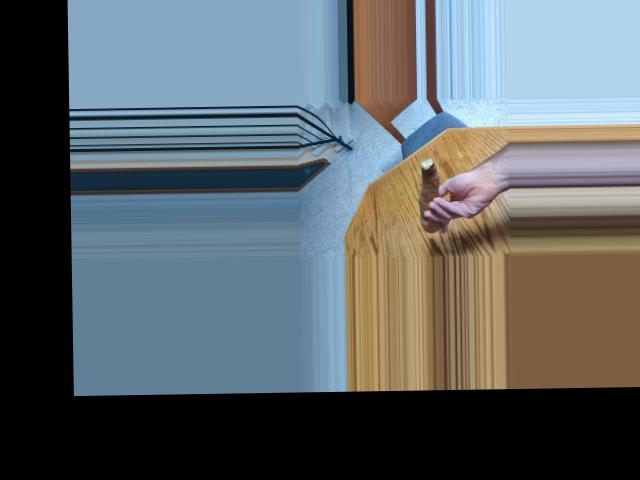sweet_potato: (412, 163, 445, 228)
